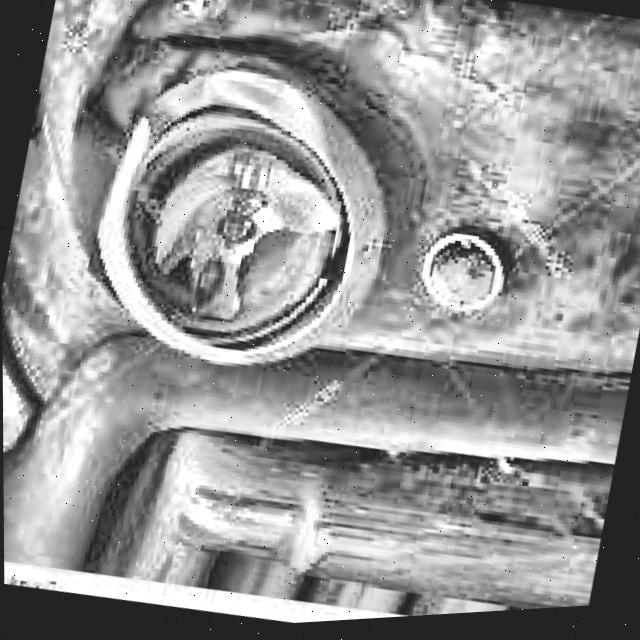head_lamp: (66, 41, 424, 397)
